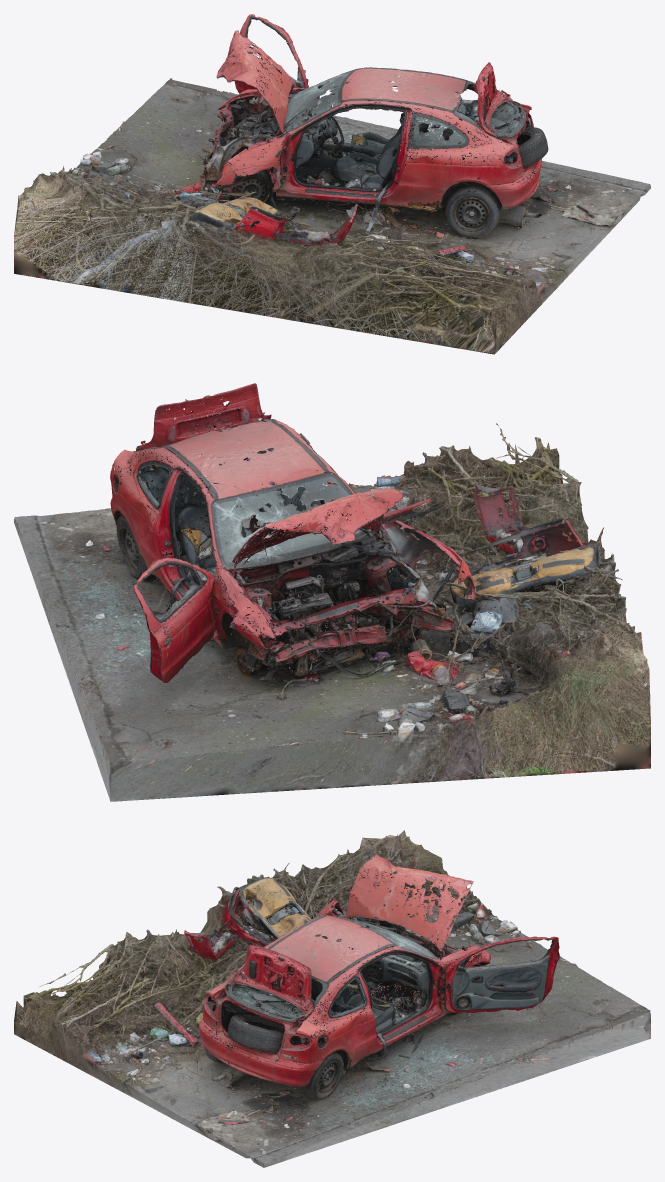
The model's file is sf-red-car-wreck-8a5406.glb.
The picture shows the model from 3 angles, top to bottom: view 1: azimuth 30°, elevation 25°; view 2: azimuth 150°, elevation 25°; view 3: azimuth 270°, elevation 25°; orthographic projection. The views are drawn at different scales.
Visible parts, largest first — view 1: meshNode_Material_u2_v1_0, meshNode_Material_u1_v1_0, meshNode_Material_u1_v2_0, meshNode_Material_u2_v2_0; view 2: meshNode_Material_u1_v1_0, meshNode_Material_u1_v2_0, meshNode_Material_u2_v1_0, meshNode_Material_u2_v2_0; view 3: meshNode_Material_u1_v1_0, meshNode_Material_u1_v2_0, meshNode_Material_u2_v1_0, meshNode_Material_u2_v2_0.
Part boxes in pixels (x1,y1,x2,y2): meshNode_Material_u2_v1_0: [14, 15, 643, 354]; meshNode_Material_u1_v1_0: [24, 14, 649, 328]; meshNode_Material_u1_v2_0: [18, 14, 650, 353]; meshNode_Material_u2_v2_0: [67, 16, 650, 354]; meshNode_Material_u1_v1_0: [14, 383, 647, 801]; meshNode_Material_u1_v2_0: [16, 392, 650, 801]; meshNode_Material_u2_v1_0: [17, 383, 650, 799]; meshNode_Material_u2_v2_0: [14, 393, 628, 801]; meshNode_Material_u1_v1_0: [37, 831, 650, 1163]; meshNode_Material_u1_v2_0: [14, 830, 650, 1167]; meshNode_Material_u2_v1_0: [24, 830, 648, 1163]; meshNode_Material_u2_v2_0: [16, 847, 648, 1167].
Size of the model in its own units: 7.64 by 1.99 by 7.82.
4 materials, 4 textured.
